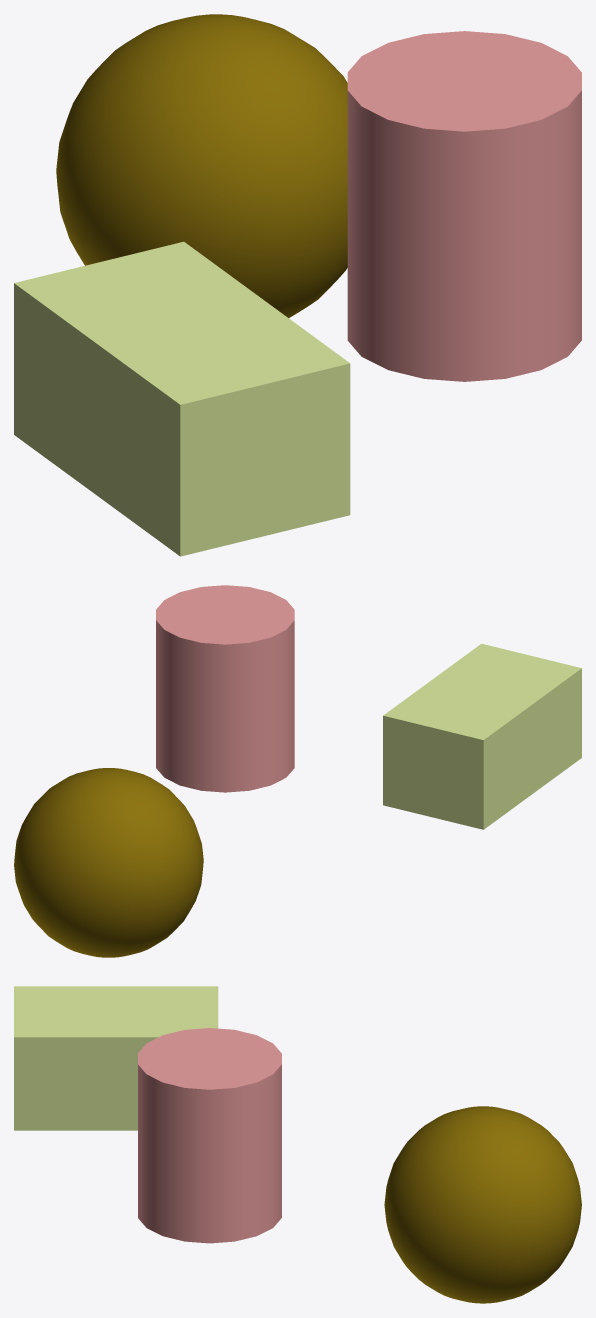
3 renders of one model, top to bottom at view 1: azimuth 30°, elevation 25°; view 2: azimuth 150°, elevation 25°; view 3: azimuth 270°, elevation 25°, orthographic. The views are drawn at different scales.
Parts seen in each view (by area): view 1: Box001, Cylinder001, Sphere001; view 2: Sphere001, Box001, Cylinder001; view 3: Sphere001, Cylinder001, Box001.
Boxes of the visible parts, bbox=[...] form: Box001: bbox=[14, 241, 350, 556]; Cylinder001: bbox=[347, 31, 581, 381]; Sphere001: bbox=[56, 14, 347, 317]; Sphere001: bbox=[14, 768, 203, 957]; Box001: bbox=[383, 643, 581, 829]; Cylinder001: bbox=[156, 585, 294, 792]; Sphere001: bbox=[384, 1106, 581, 1303]; Cylinder001: bbox=[138, 1028, 281, 1243]; Box001: bbox=[14, 986, 218, 1130].
Size of the model in its own units: 63.33 by 42.98 by 90.97.
